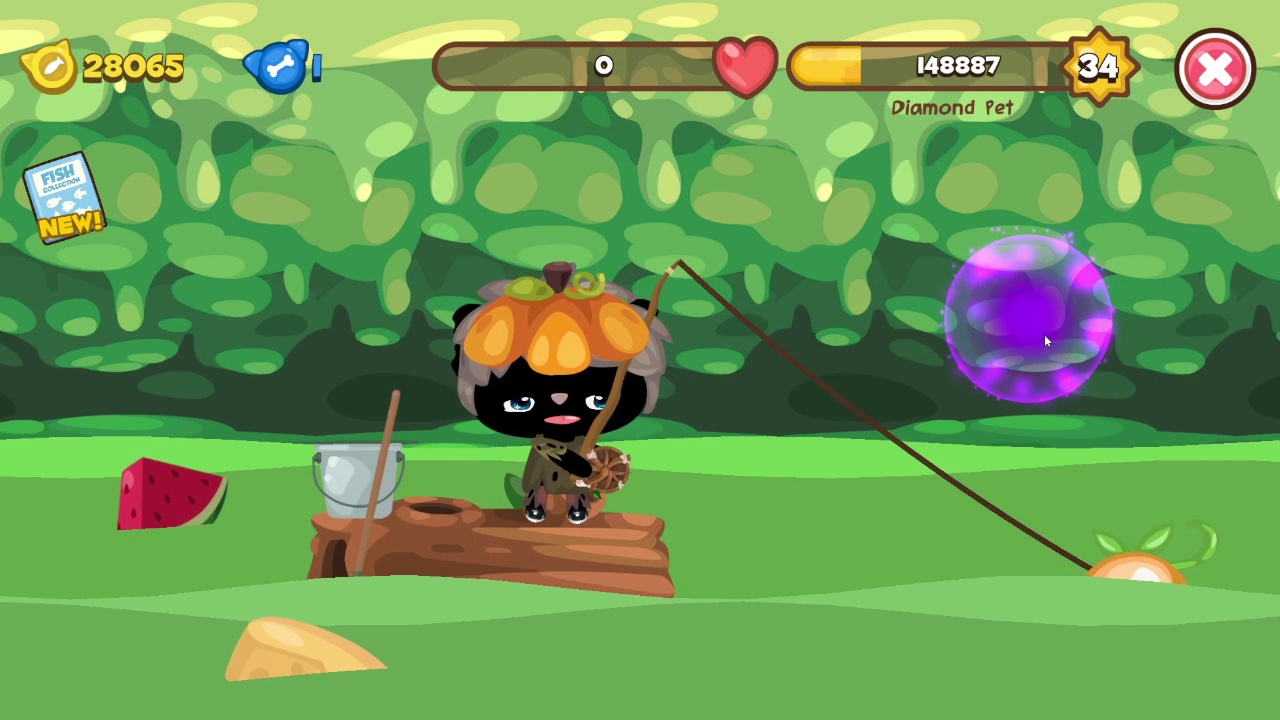point: (944, 233, 1116, 407)
